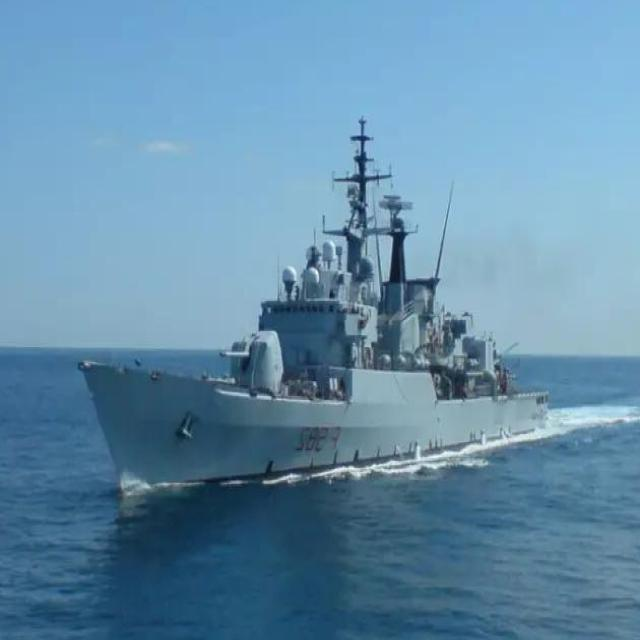navalvessels: (87, 129, 573, 505)
